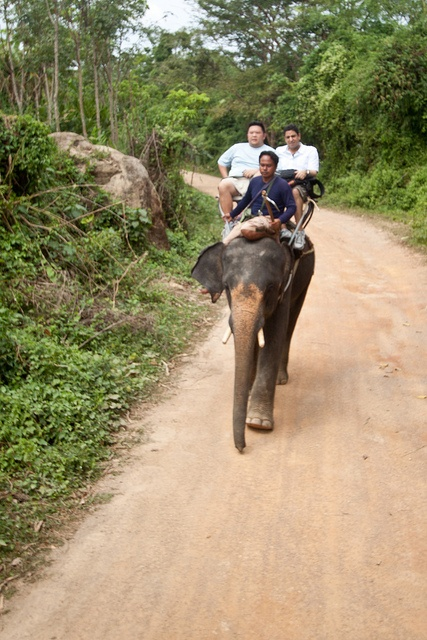elephant: (190, 229, 316, 455)
